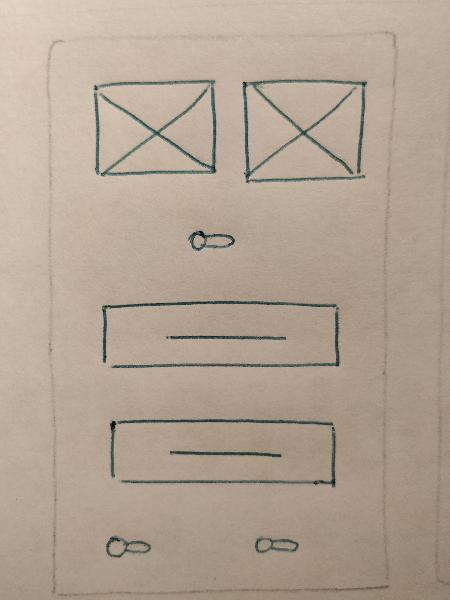button: (91, 287, 354, 384), (95, 410, 360, 498)
image: (236, 76, 376, 187), (84, 75, 230, 180)
switch: (177, 219, 249, 265), (94, 526, 168, 566), (239, 526, 314, 565)
